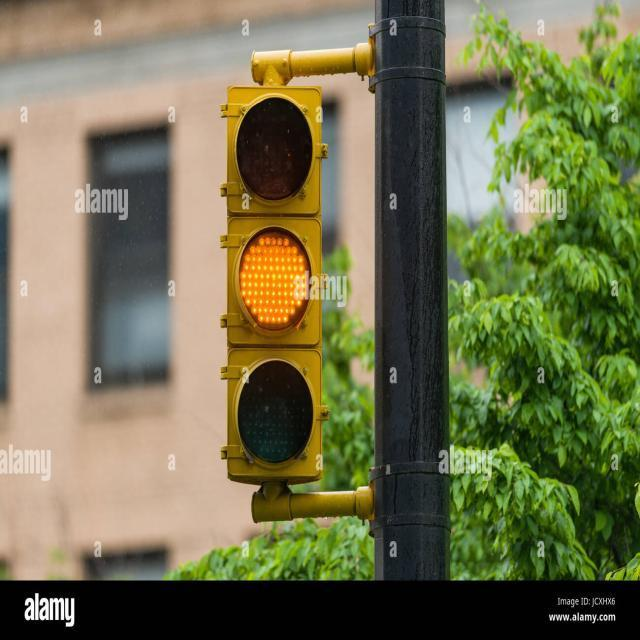yellow_light: (220, 85, 327, 484)
